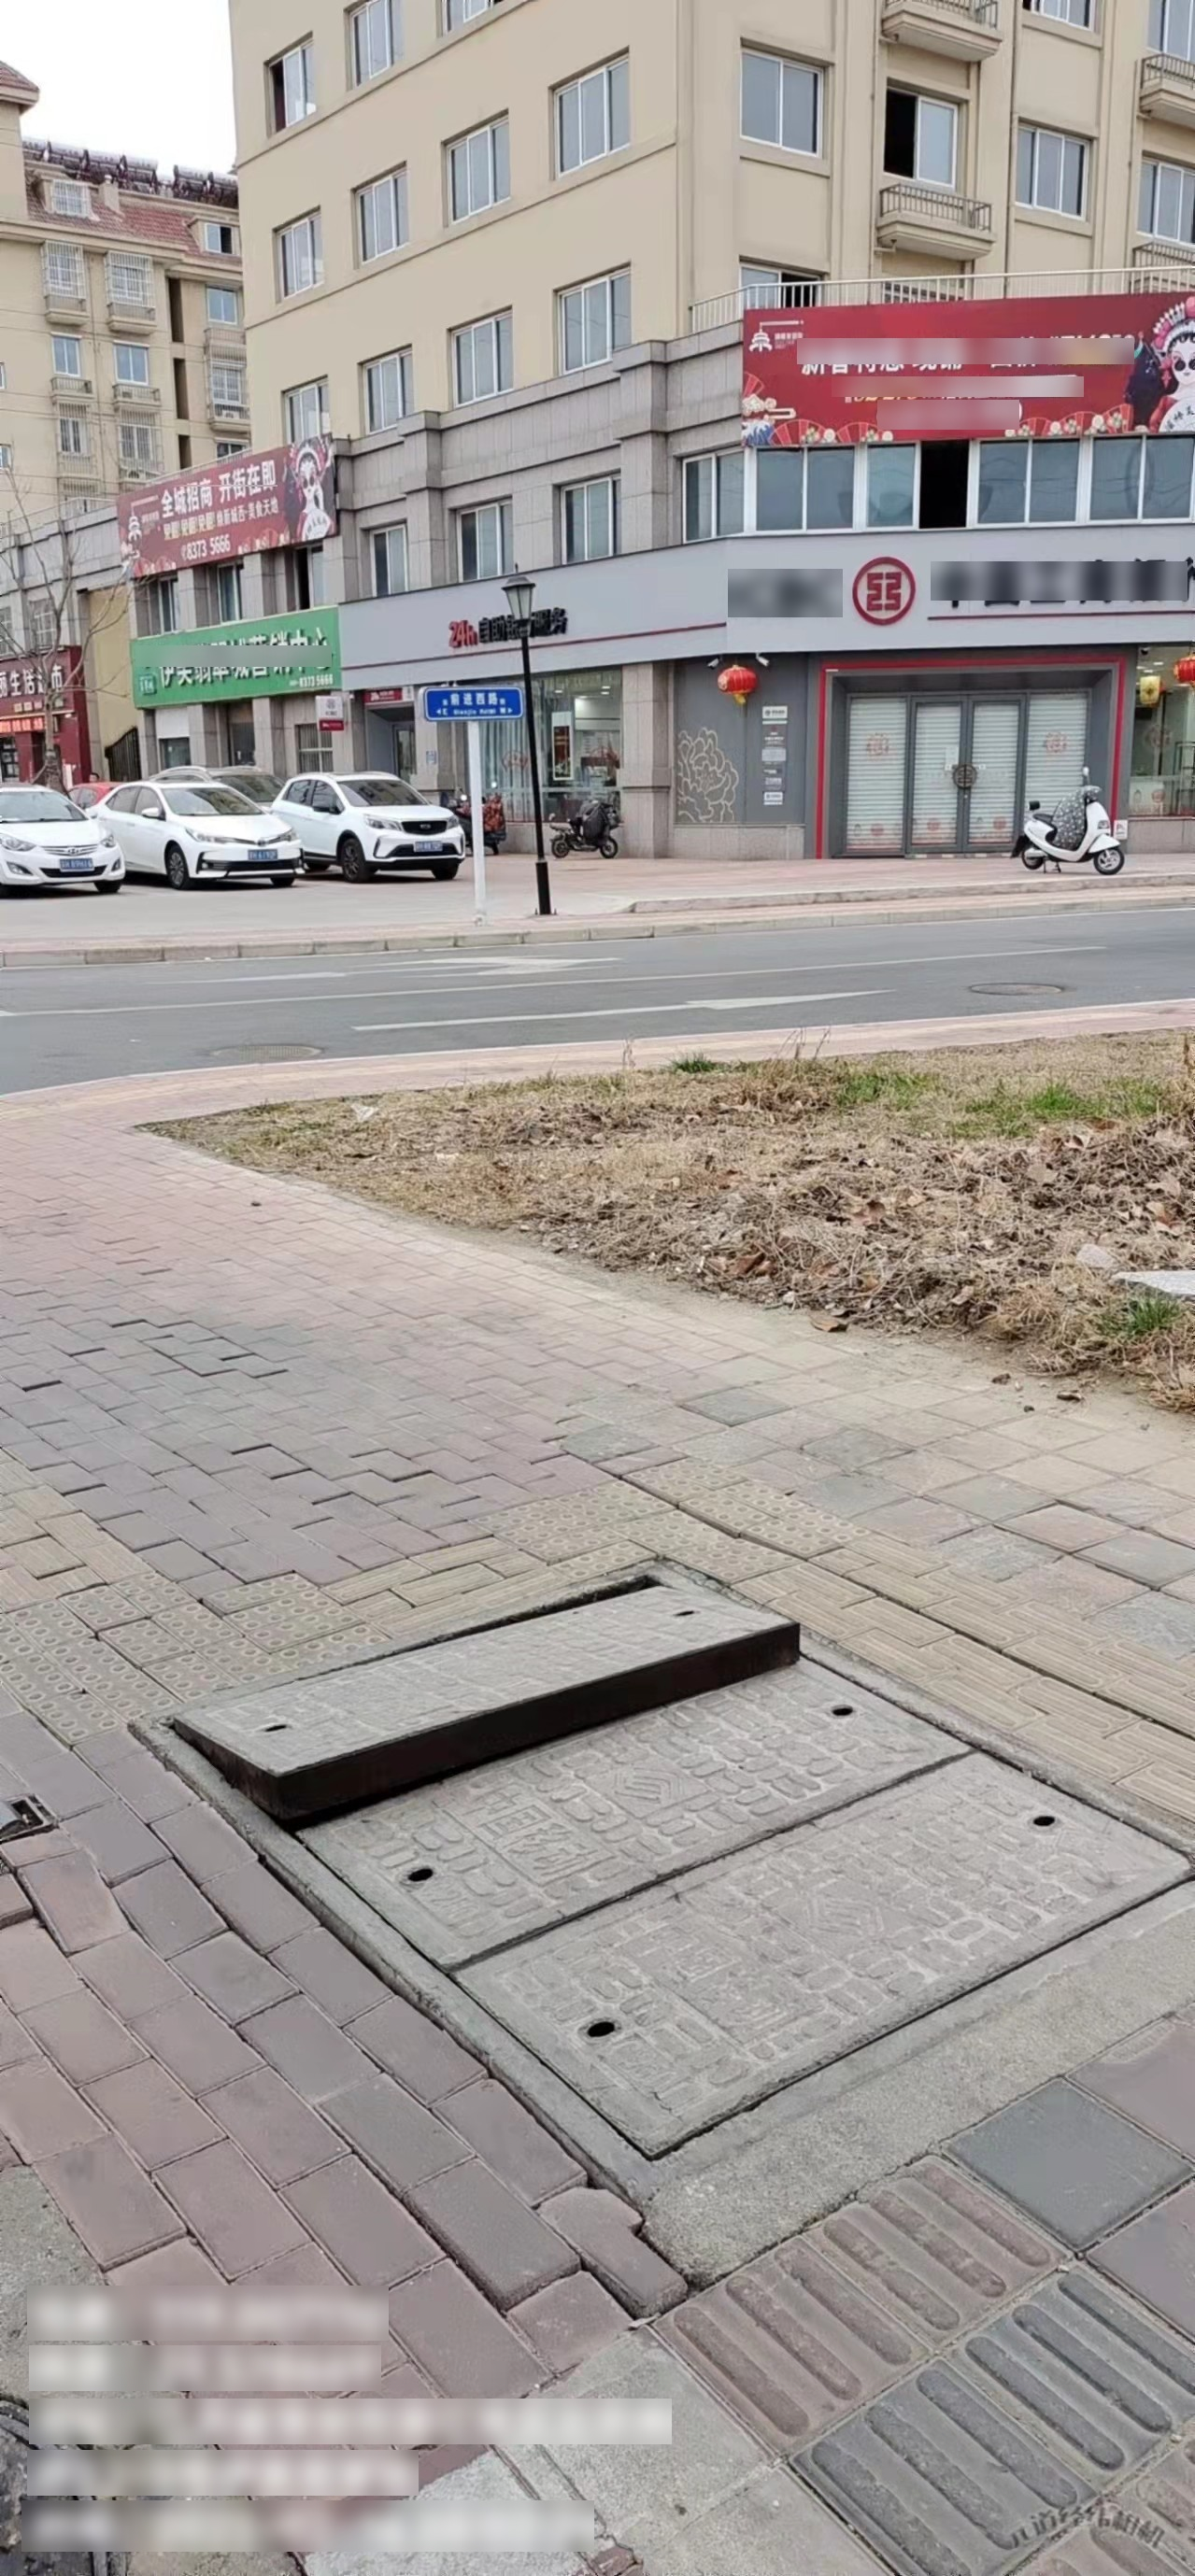uncovered: (127, 1557, 1195, 2193)
